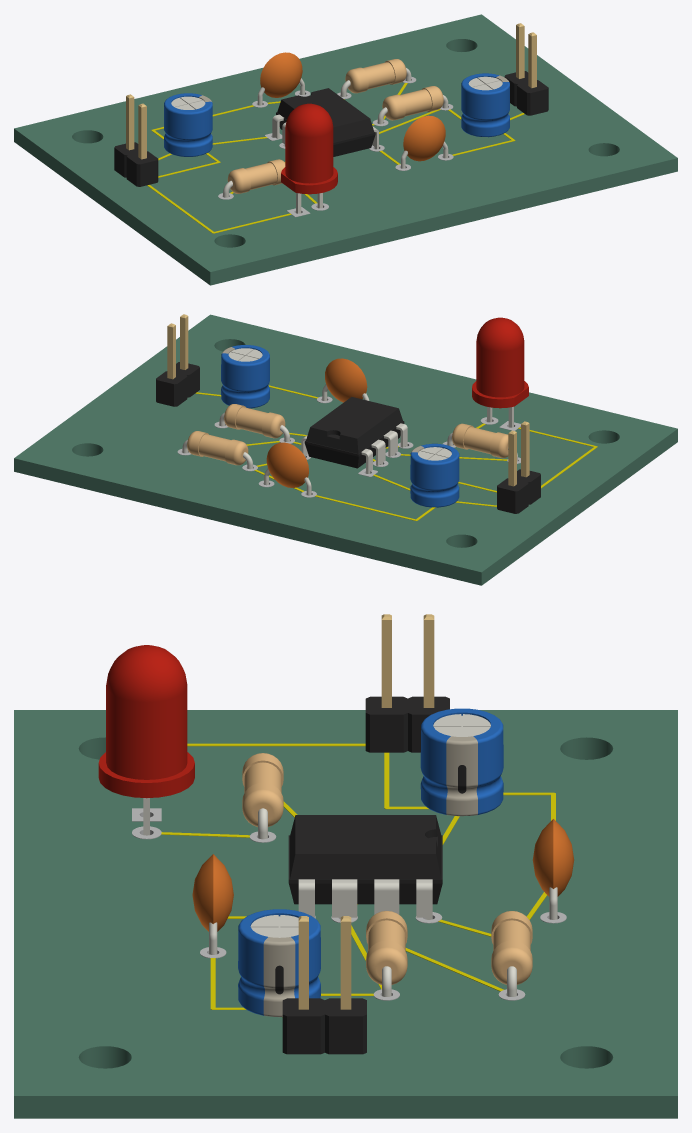
3 renders of one model, top to bottom at view 1: azimuth 30°, elevation 25°; view 2: azimuth 150°, elevation 25°; view 3: azimuth 270°, elevation 25°, orthographic. The views are drawn at different scales.
Visible parts, largest first — view 1: =>[0:1:1:17], =>[0:1:1:9] (×2), =>[0:1:1:7] (×2), =>[0:1:1:5] (×3), =>[0:1:1:13], =>[0:1:1:3] (×2), =>[0:1:1:11], =>[0:1:1:14], =>[0:1:1:15]; view 2: =>[0:1:1:17], =>[0:1:1:9] (×2), =>[0:1:1:11], =>[0:1:1:7] (×2), =>[0:1:1:5] (×3), =>[0:1:1:13], =>[0:1:1:3] (×2), =>[0:1:1:14], =>[0:1:1:15]; view 3: =>[0:1:1:17], =>[0:1:1:9] (×2), =>[0:1:1:11], =>[0:1:1:13], =>[0:1:1:7] (×2), =>[0:1:1:5] (×3), =>[0:1:1:3] (×2), =>[0:1:1:14], =>[0:1:1:15].
Part boxes in pixels (box(x1,y1,x2,y2)): =>[0:1:1:17]: box(14, 14, 677, 285); =>[0:1:1:9] (×2): box(164, 73, 509, 156); =>[0:1:1:7] (×2): box(114, 23, 548, 186); =>[0:1:1:5] (×3): box(223, 59, 448, 197); =>[0:1:1:13]: box(281, 103, 337, 213); =>[0:1:1:3] (×2): box(257, 52, 448, 168); =>[0:1:1:11]: box(272, 88, 378, 156); =>[0:1:1:14]: box(147, 83, 524, 233); =>[0:1:1:15]: box(218, 76, 453, 217); =>[0:1:1:17]: box(14, 314, 677, 585); =>[0:1:1:9] (×2): box(221, 345, 459, 507); =>[0:1:1:11]: box(301, 397, 407, 473); =>[0:1:1:7] (×2): box(156, 314, 540, 513); =>[0:1:1:5] (×3): box(182, 404, 517, 469); =>[0:1:1:13]: box(472, 317, 528, 427); =>[0:1:1:3] (×2): box(264, 358, 369, 495); =>[0:1:1:14]: box(195, 385, 597, 520); =>[0:1:1:15]: box(177, 396, 520, 497); =>[0:1:1:17]: box(14, 710, 677, 1118); =>[0:1:1:9] (×2): box(238, 708, 503, 1017); =>[0:1:1:11]: box(288, 815, 442, 919); =>[0:1:1:13]: box(98, 645, 194, 835); =>[0:1:1:7] (×2): box(282, 614, 449, 1054); =>[0:1:1:5] (×3): box(242, 753, 532, 996); =>[0:1:1:3] (×2): box(192, 819, 574, 954); =>[0:1:1:14]: box(161, 743, 555, 1017); =>[0:1:1:15]: box(132, 808, 566, 1000).
Size of the model in its own units: 0.055 by 0.0149 by 0.04.
